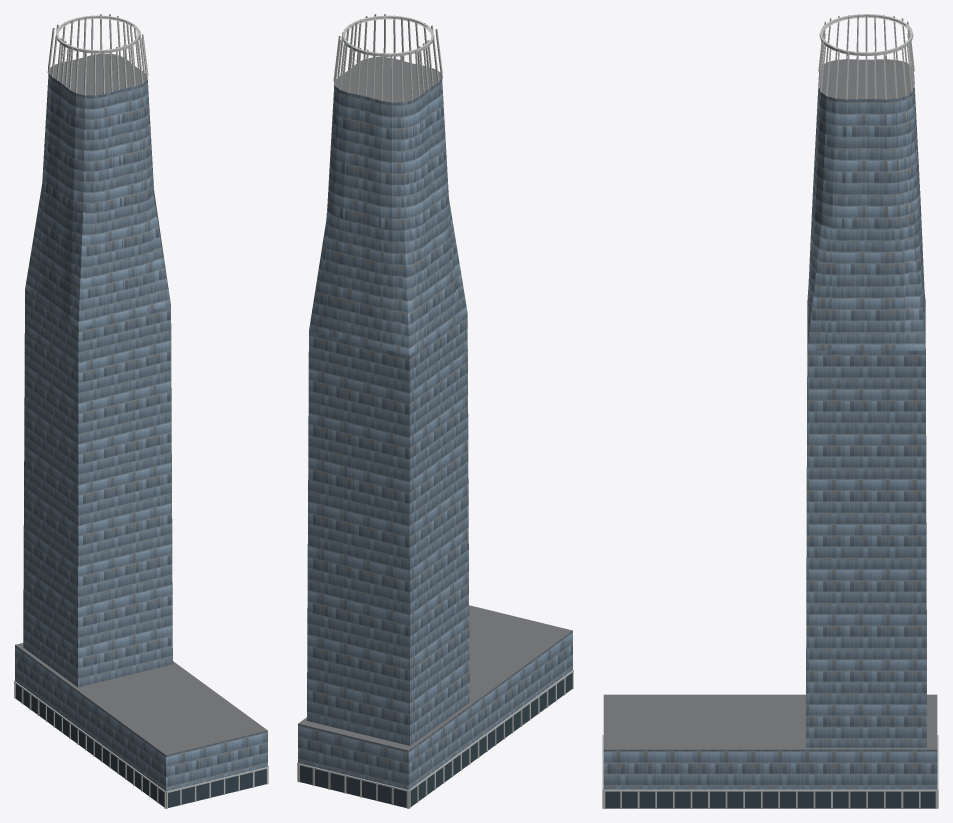
File: hudson_yards_15.glb
3 renders of one model, left to right at view 1: azimuth 30°, elevation 25°; view 2: azimuth 150°, elevation 25°; view 3: azimuth 270°, elevation 25°, orthographic. The views are drawn at different scales.
Parts seen in each view (by area): view 1: hudson_yards_15; view 2: hudson_yards_15; view 3: hudson_yards_15.
Boxes of the visible parts, box(x1,y1,x2,y2) form: hudson_yards_15: box(14, 14, 268, 808); hudson_yards_15: box(297, 14, 573, 808); hudson_yards_15: box(602, 14, 938, 808).
Bounding box in the file's own units: 44.79 × 279 × 114.
2 materials, 2 textured.
